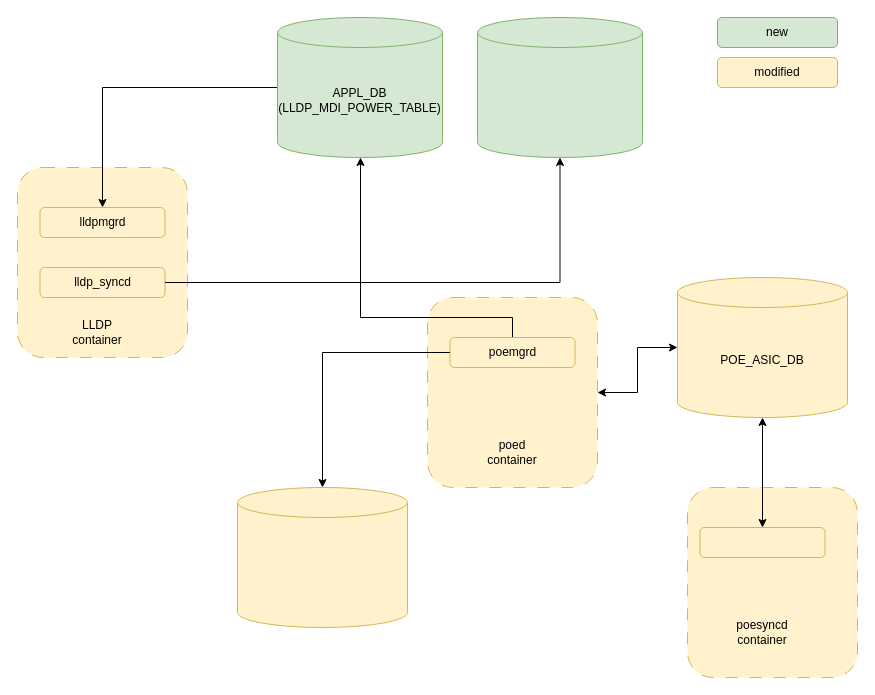
Some shapes in this 875 by 695 pixel diagram are drawn without their labels. The shapes that lost their labels are listed below. From the top down, each one's centre as x and y in pixels, then its label:
(559,87): STATE_DB (LLDP_MDI_POWER_TABLE)
(322,557): CONFIG_ DB (POE_PORT_TABLE)
(762,542): poesyncd
